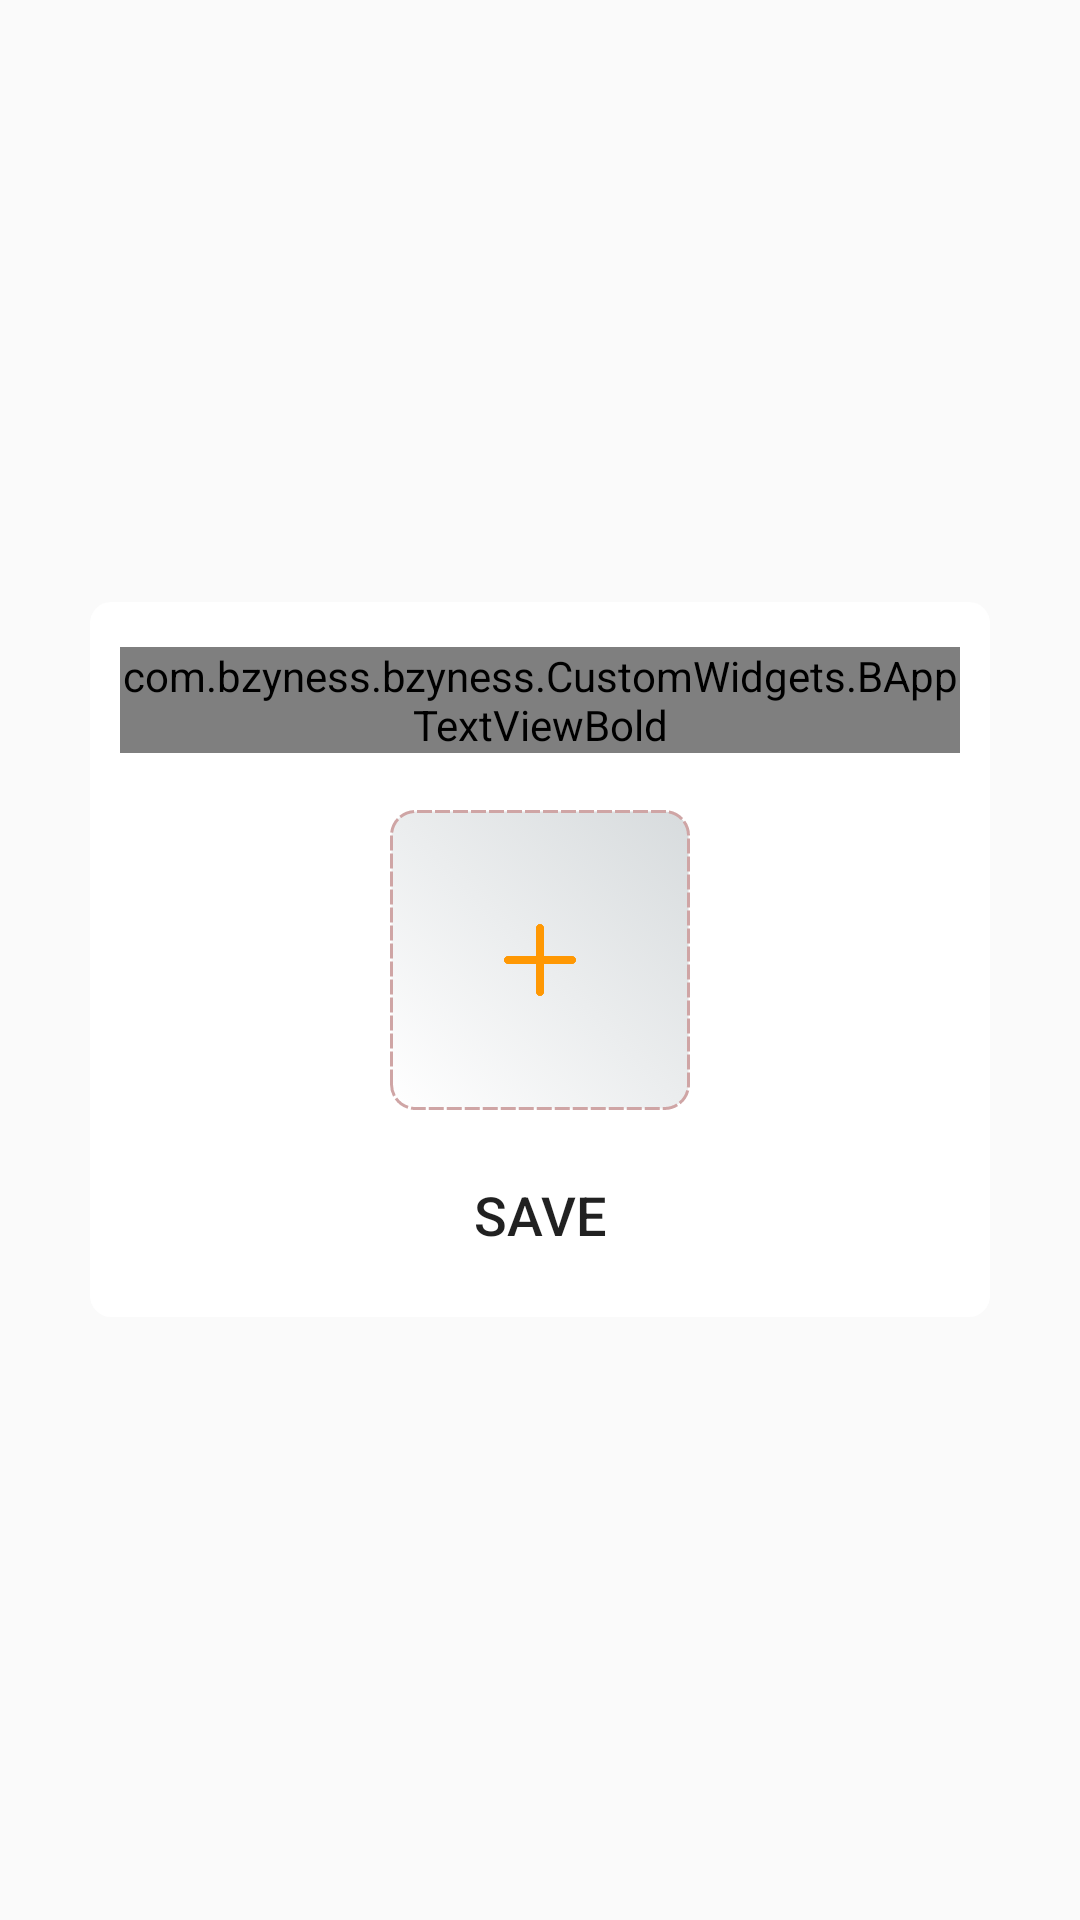

Screen size 1080×1920. Icon name, then its center in pixels as point (x, y):
plus: point (540, 960)
